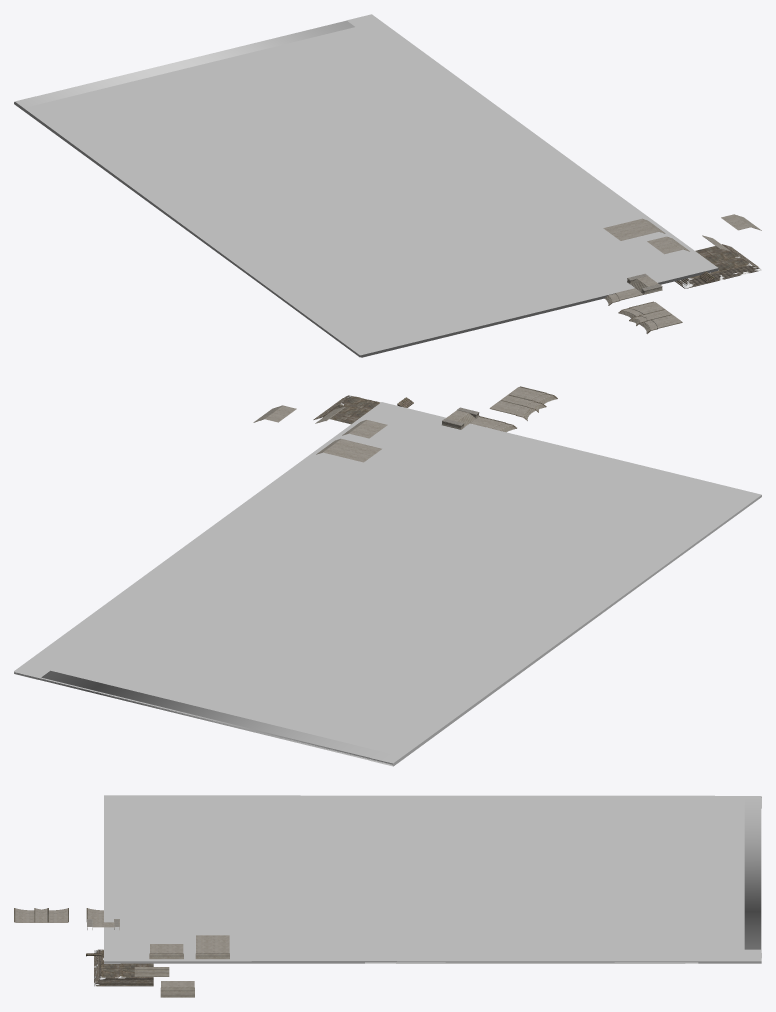
Rendered from zSidewalk.fbx.
3 renders of one model, top to bottom at view 1: azimuth 30°, elevation 25°; view 2: azimuth 150°, elevation 25°; view 3: azimuth 270°, elevation 25°, orthographic. The views are drawn at different scales.
Visible parts, largest first — view 1: Mesh_sidewalk_01, LV_Campagna_Stadium_Layer01_SM_HSH.001, LV_Campagna_Uni_BigStair_SM_HSH, LV_Campagna_Uni_CityHStair02_SM_CJH.003; view 2: Mesh_sidewalk_01, LV_Campagna_Stadium_Layer01_SM_HSH.001, LV_Campagna_Uni_BigStair_SM_HSH, LV_Campagna_Uni_CityHStair02_SM_CJH.003, LV_Campagna_Uni_CityHStair02_SM_CJH.001; view 3: Mesh_sidewalk_01, LV_Campagna_Stadium_Layer01_SM_HSH.001, LV_Campagna_Uni_BigStair_SM_HSH, LV_Campagna_Uni_BigStair_SM_CJH, LV_Campagna_Uni_BigStair02_SM_HSH, LV_Campagna_Uni_CityHStair02_SM_CJH.001, LV_Campagna_Uni_CityHStair02_SM_CJH.003, LV_Campagna_Uni_BigStair01_SM_CJH.
Boxes of the visible parts, bbox=[...] form: Mesh_sidewalk_01: bbox=[14, 14, 718, 357]; LV_Campagna_Stadium_Layer01_SM_HSH.001: bbox=[675, 244, 761, 288]; LV_Campagna_Uni_BigStair_SM_HSH: bbox=[603, 218, 665, 240]; LV_Campagna_Uni_CityHStair02_SM_CJH.003: bbox=[629, 309, 682, 333]; Mesh_sidewalk_01: bbox=[14, 402, 761, 766]; LV_Campagna_Stadium_Layer01_SM_HSH.001: bbox=[313, 395, 380, 424]; LV_Campagna_Uni_BigStair_SM_HSH: bbox=[316, 438, 381, 462]; LV_Campagna_Uni_CityHStair02_SM_CJH.003: bbox=[501, 386, 557, 412]; LV_Campagna_Uni_CityHStair02_SM_CJH.001: bbox=[489, 394, 546, 420]; Mesh_sidewalk_01: bbox=[104, 795, 761, 963]; LV_Campagna_Stadium_Layer01_SM_HSH.001: bbox=[94, 949, 153, 986]; LV_Campagna_Uni_BigStair_SM_HSH: bbox=[195, 935, 229, 959]; LV_Campagna_Uni_BigStair_SM_CJH: bbox=[160, 981, 194, 997]; LV_Campagna_Uni_BigStair02_SM_HSH: bbox=[149, 944, 183, 959]; LV_Campagna_Uni_CityHStair02_SM_CJH.001: bbox=[34, 908, 68, 922]; LV_Campagna_Uni_CityHStair02_SM_CJH.003: bbox=[14, 908, 48, 922]; LV_Campagna_Uni_BigStair01_SM_CJH: bbox=[134, 967, 169, 976].
Size of the model in its own units: 52.57 by 1.41 by 83.17.
